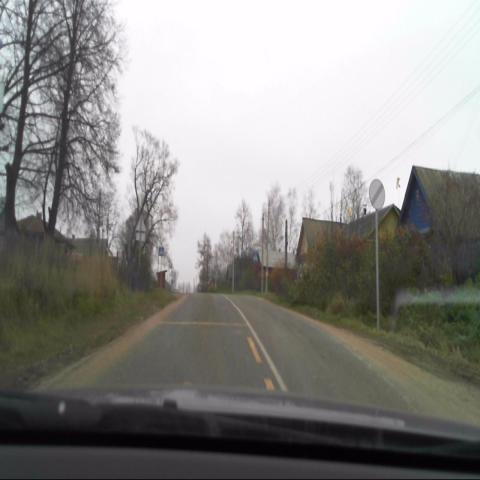3_31: (367, 177, 386, 212)
